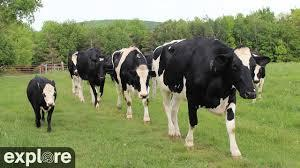cow: (153, 38, 270, 161), (112, 48, 157, 123), (68, 49, 114, 109), (27, 76, 57, 133), (251, 66, 265, 99)
